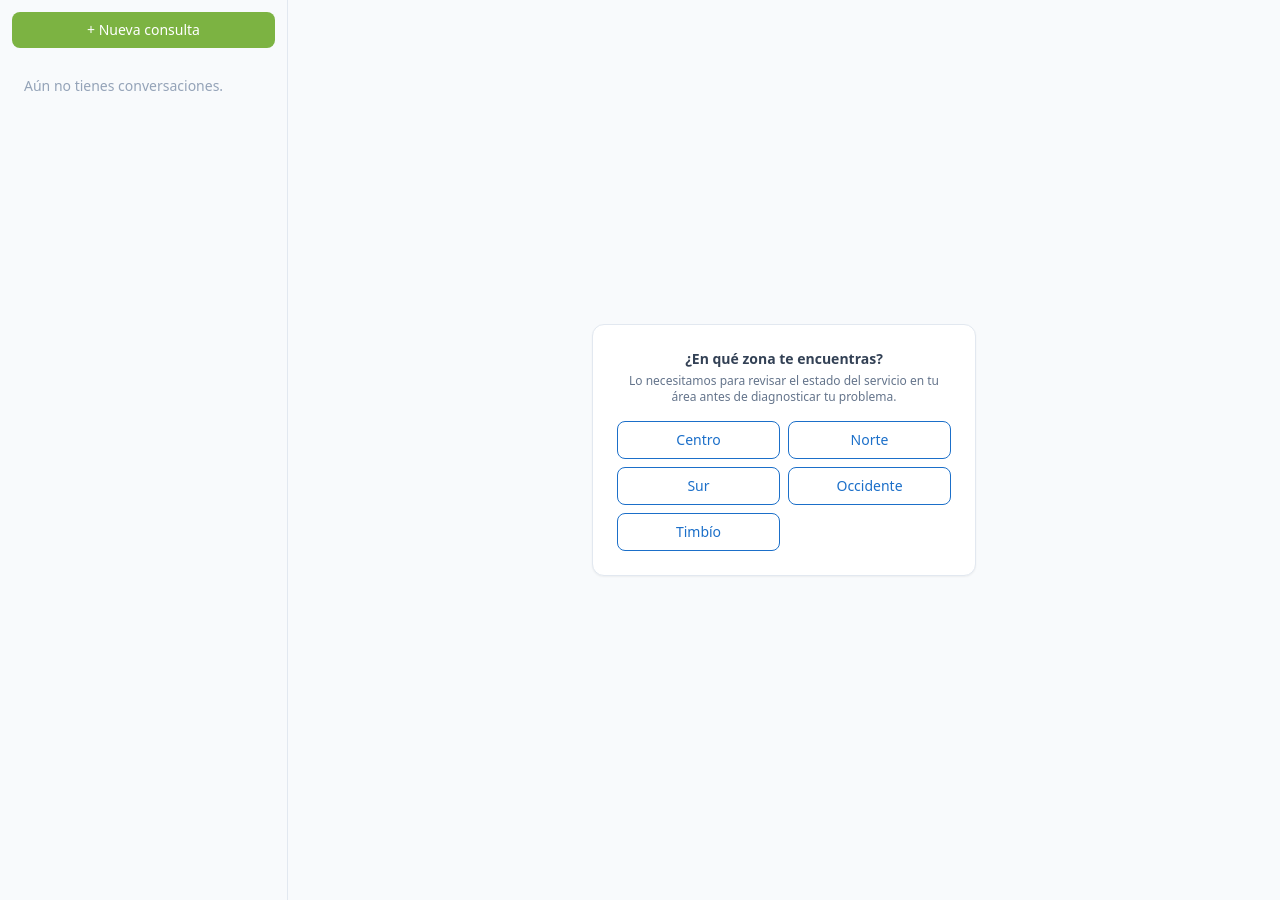
Scenario: ChatPage › crea una conversación y muestra la respuesta de IA con el diagnóstico al usar un botón rápido
Click the button "Centro": click(698, 440) x1=617 y1=421 x2=780 y2=459
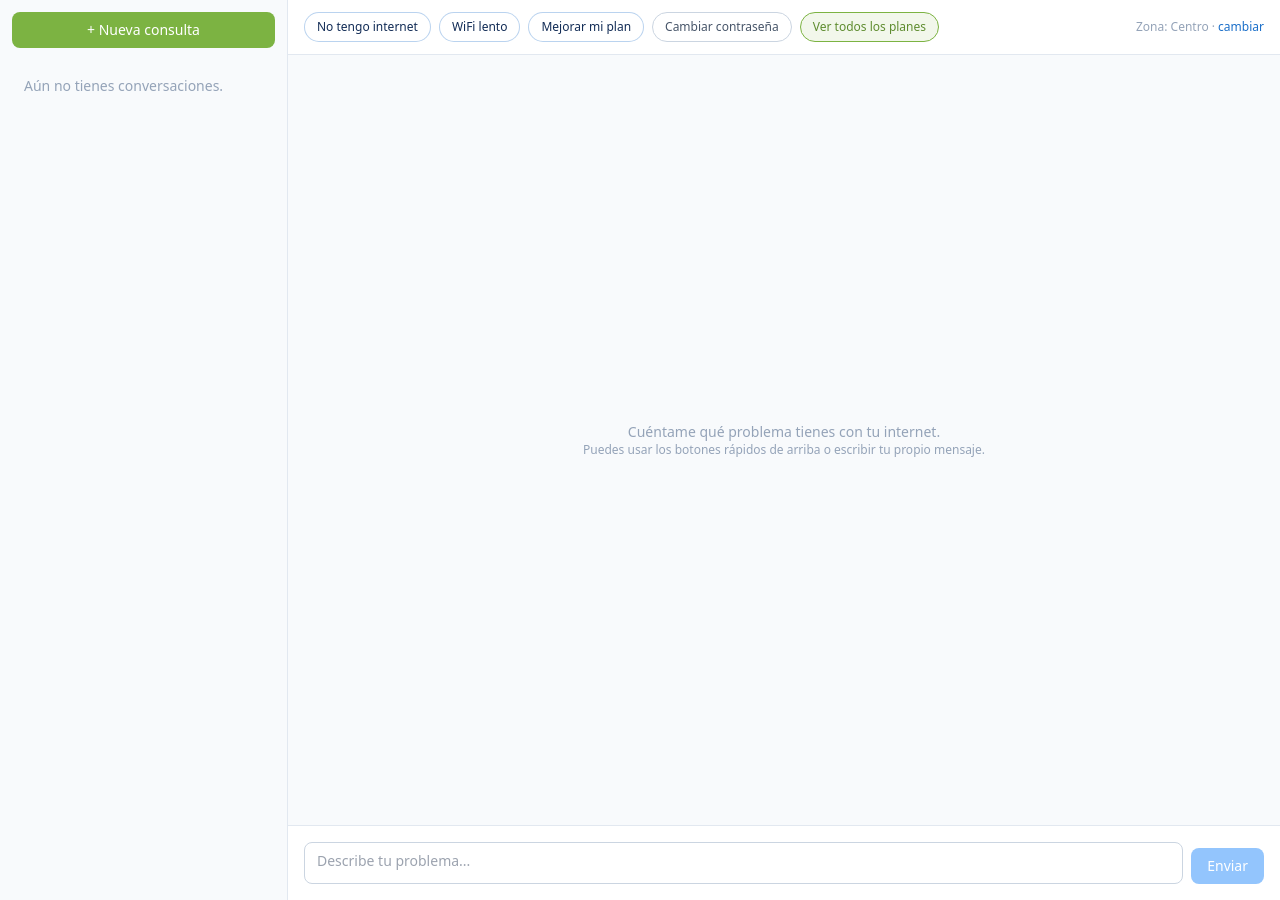
Click the button "No tengo internet": click(367, 27) x1=304 y1=12 x2=431 y2=42
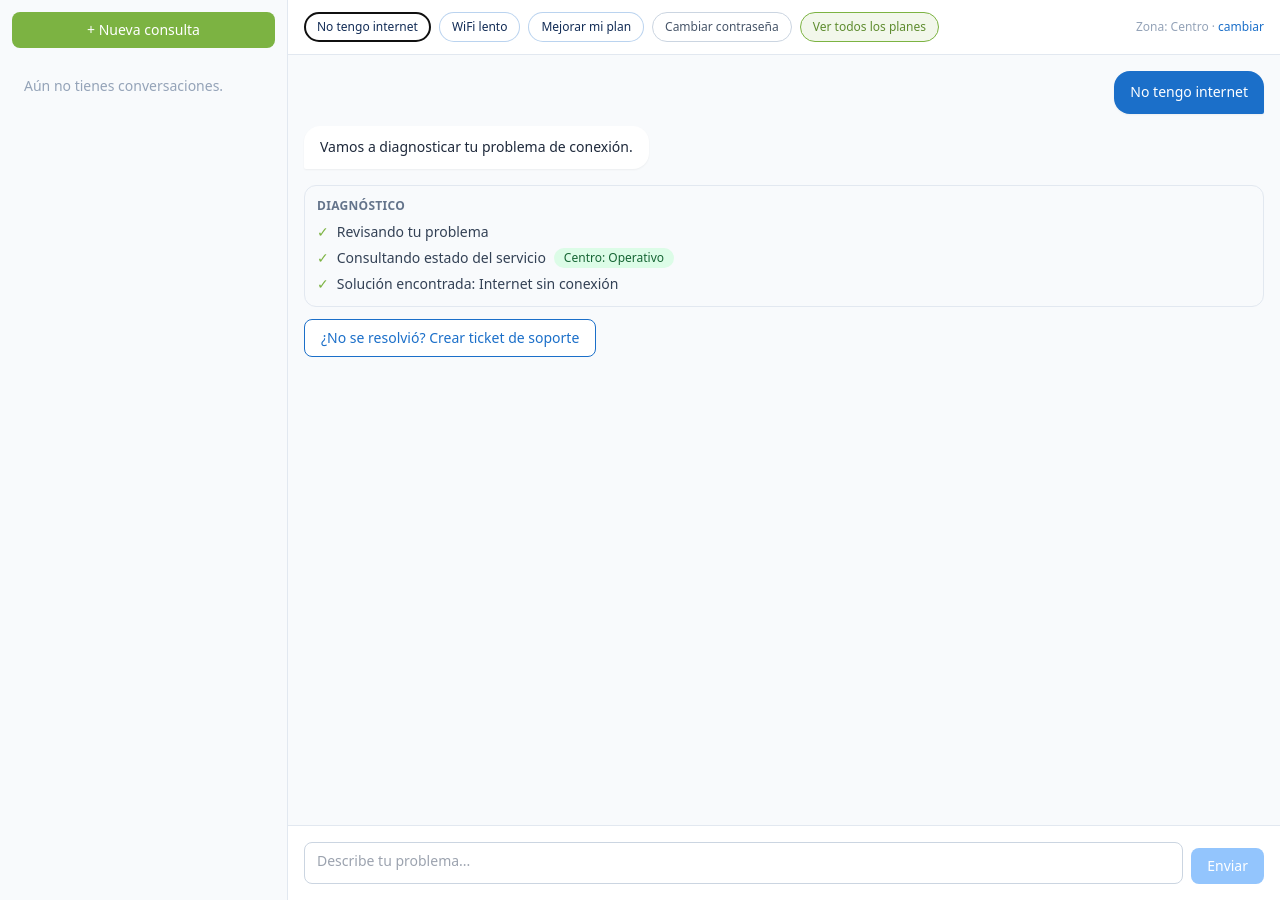
Result: the text "No tengo internet" is shown at x1=1114 y1=71 x2=1264 y2=114
Result: the text "Vamos a diagnosticar tu problema de conexión." is shown at x1=304 y1=126 x2=649 y2=169
Result: the text "Diagnóstico" is shown at x1=317 y1=196 x2=405 y2=214
